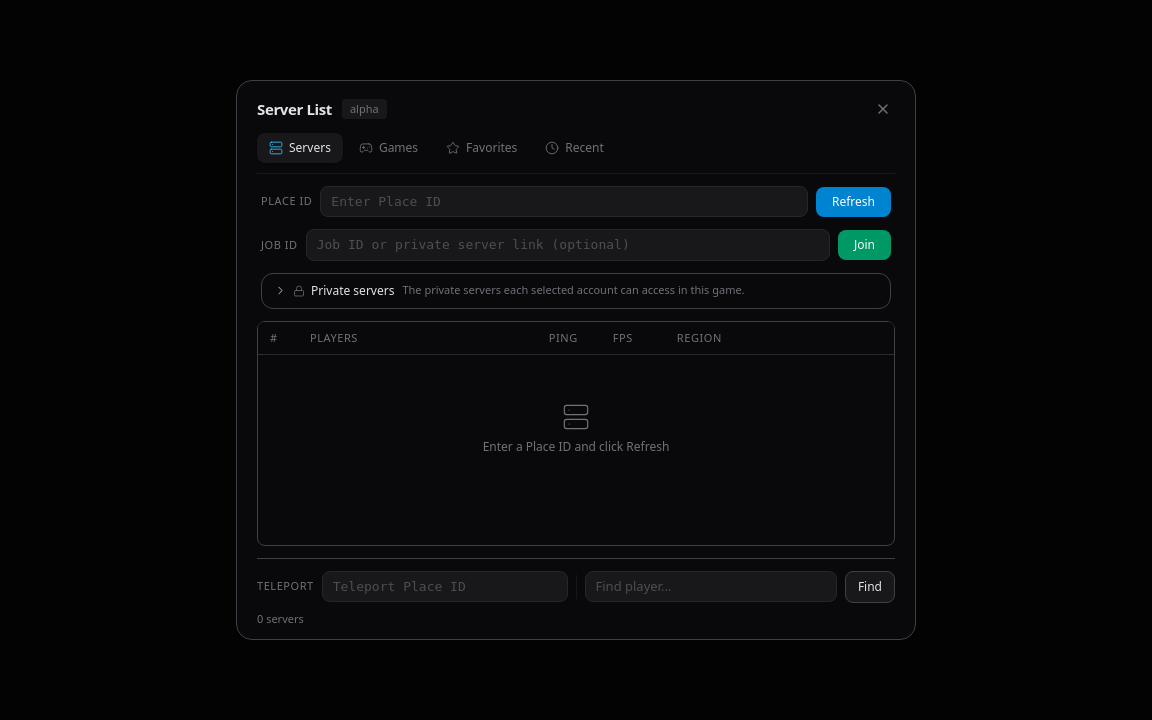
Test: ServerListDialog — menu do jogo completo, como na Choose Game › a coluna de servidores recentes continua aqui
Click the button "Recent" at [575, 148], box x1=533 y1=133 x2=616 y2=163
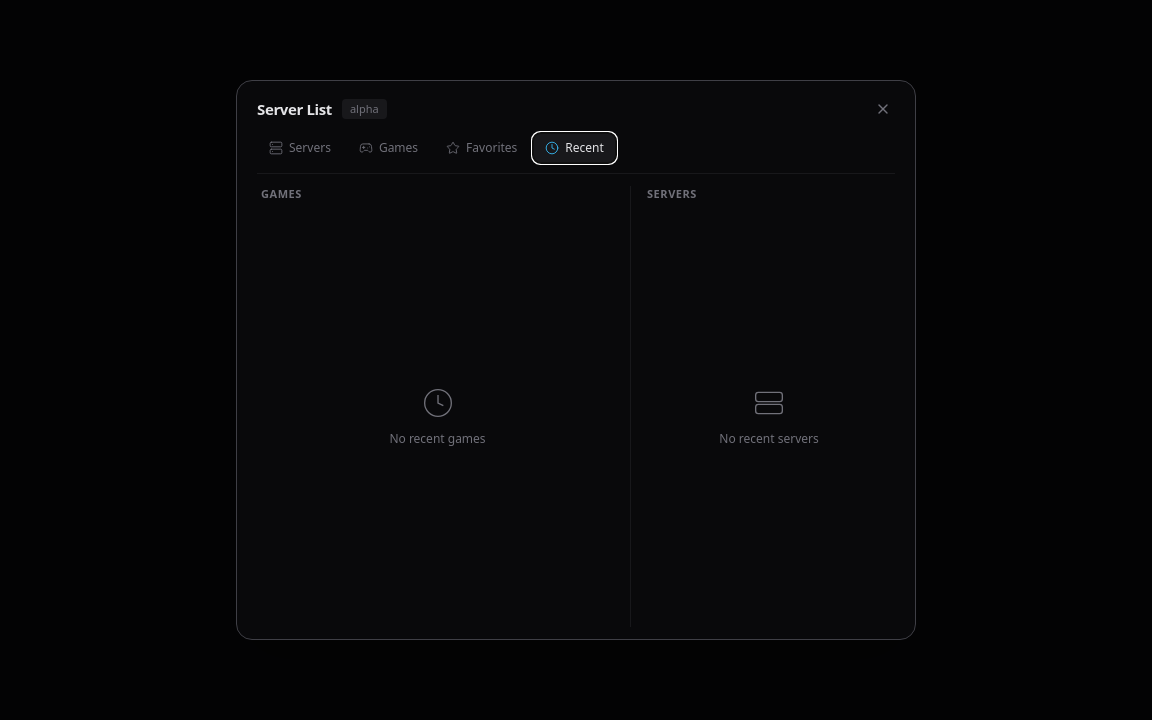
Result: the text "No recent servers" is shown at x1=719 y1=431 x2=819 y2=447
